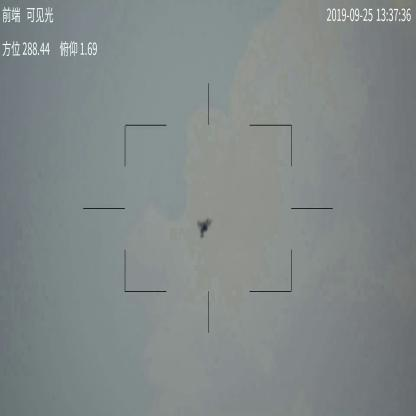uav: (195, 215, 212, 241)
